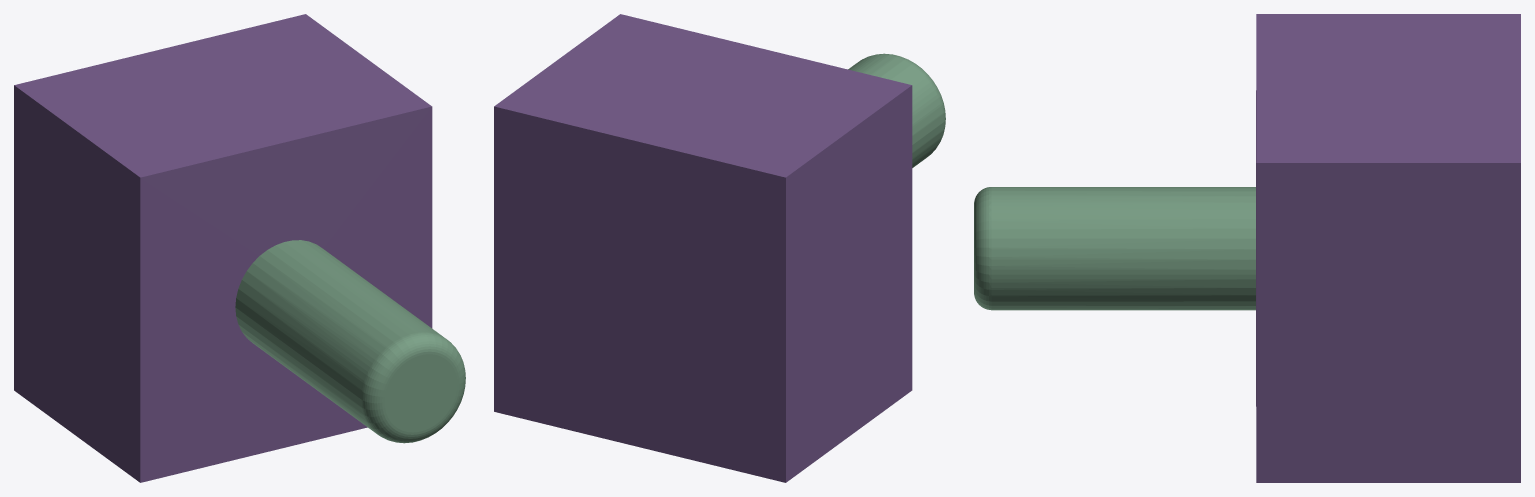
The model's file is triValve_down_collision.obj.
3 views of the same model, side by side, from view 1: azimuth 30°, elevation 25°; view 2: azimuth 150°, elevation 25°; view 3: azimuth 270°, elevation 25° (orthographic). The views are drawn at different scales.
Parts seen in each view (by area): view 1: geometry_1, geometry_0; view 2: geometry_1, geometry_0; view 3: geometry_1, geometry_0.
Boxes of the visible parts, left/top/right/bottom form: geometry_1: left=14, top=14, right=432, bottom=482; geometry_0: left=235, top=240, right=465, bottom=443; geometry_1: left=494, top=14, right=912, bottom=482; geometry_0: left=848, top=53, right=945, bottom=167; geometry_1: left=1256, top=14, right=1520, bottom=482; geometry_0: left=974, top=187, right=1255, bottom=310.
Bounding box in the file's own units: 40 × 40 × 61.99.
